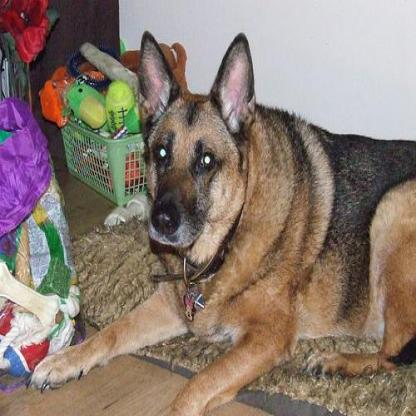German_shepherd: (22, 28, 414, 414)
